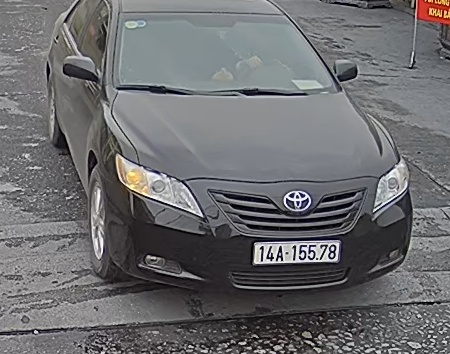vehicle plate: (252, 238, 344, 264)
